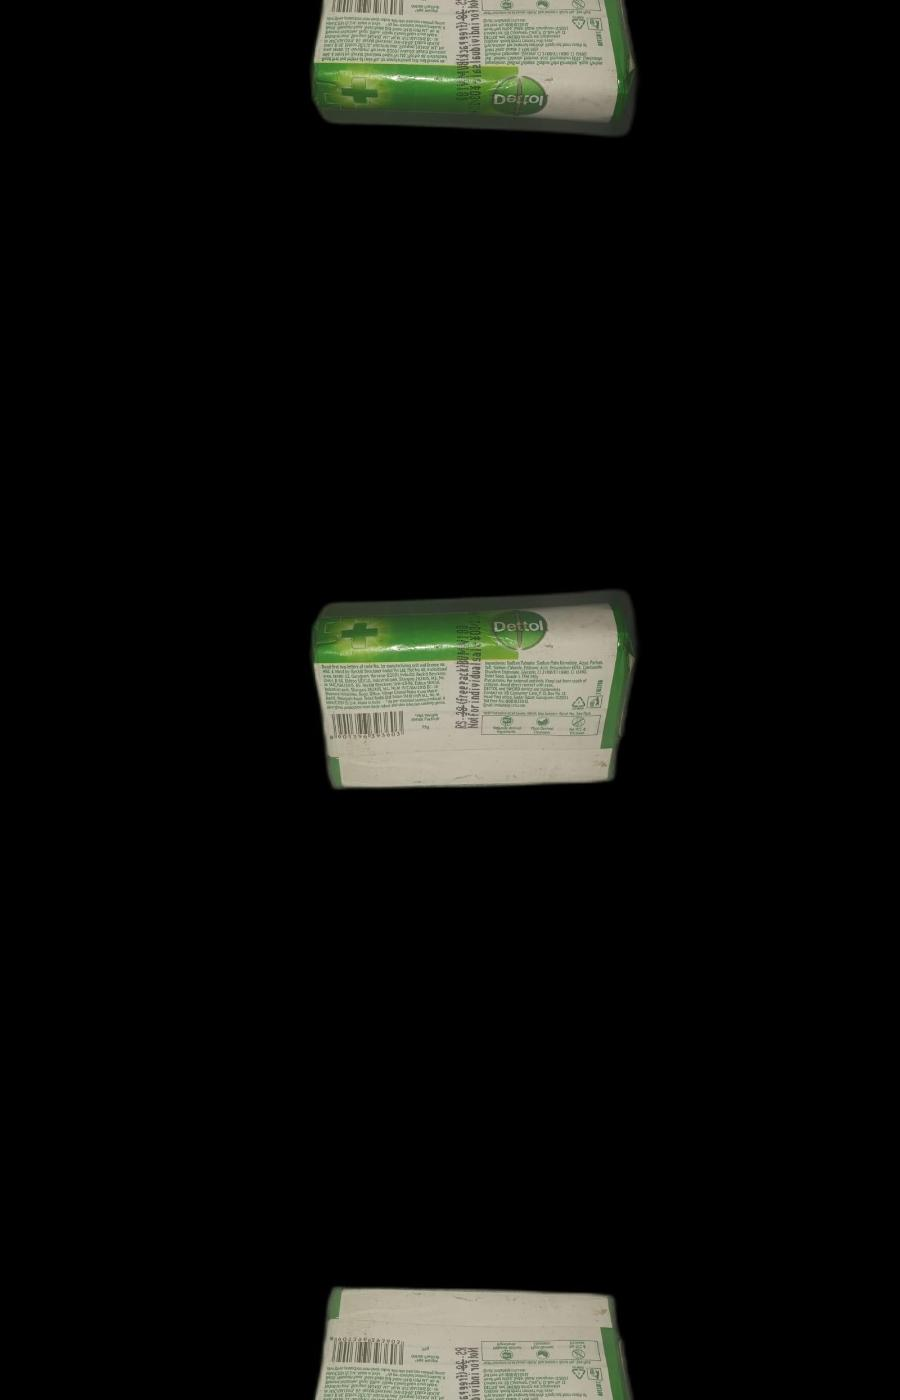Dettol Bathing Soap Bar - Original 125g: (319, 568, 629, 784), (319, 0, 629, 156), (319, 1290, 629, 1400)
